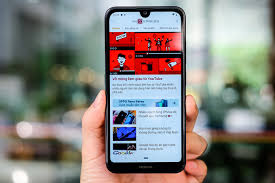nokia: (100, 6, 189, 176)
